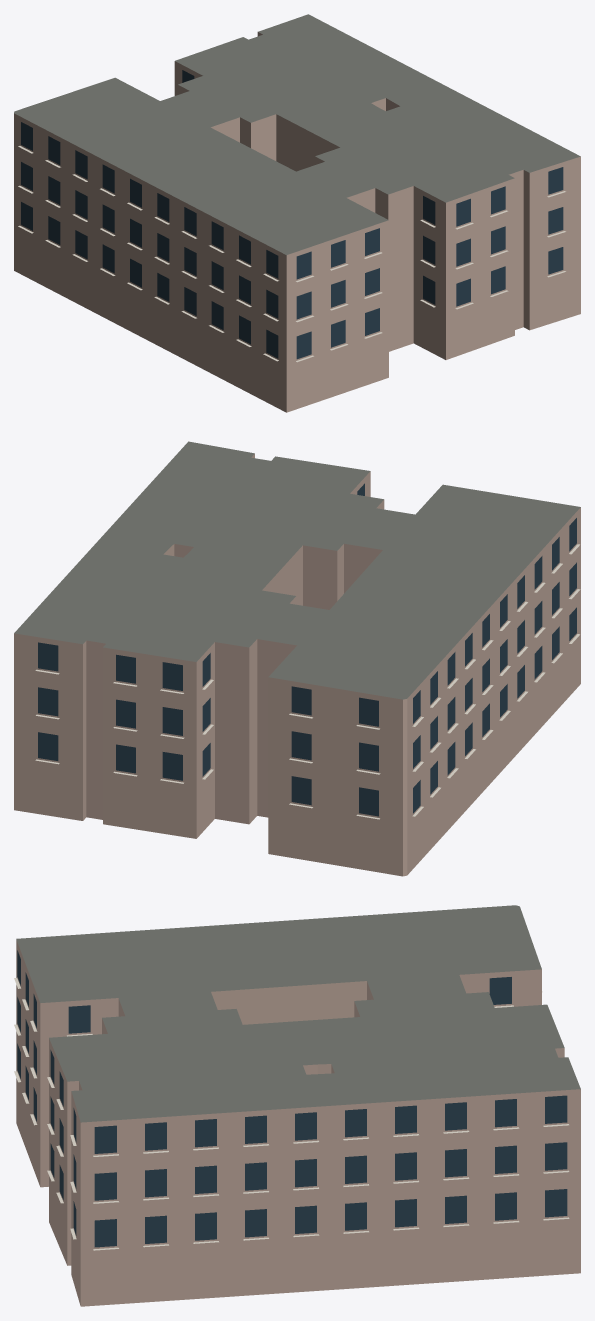
The picture shows the model from 3 angles, top to bottom: view 1: azimuth 30°, elevation 25°; view 2: azimuth 150°, elevation 25°; view 3: azimuth 270°, elevation 25°; orthographic projection. The views are drawn at different scales.
Visible parts, largest first — view 1: Footprint 0, Inferred window bays, Window sills; view 2: Footprint 0, Inferred window bays, Window sills; view 3: Footprint 0, Inferred window bays, Window sills.
Boxes of the visible parts, x1=… form: Footprint 0: x1=14, y1=14, x2=580, y2=412; Inferred window bays: x1=21, y1=70, x2=563, y2=359; Window sills: x1=18, y1=146, x2=565, y2=362; Footprint 0: x1=14, y1=441, x2=580, y2=876; Inferred window bays: x1=38, y1=483, x2=576, y2=816; Window sills: x1=35, y1=544, x2=580, y2=819; Footprint 0: x1=16, y1=905, x2=580, y2=1306; Inferred window bays: x1=17, y1=950, x2=567, y2=1247; Window sills: x1=14, y1=978, x2=569, y2=1250.
Bounding box in the file's own units: 28.75 × 11.26 × 31.42.
